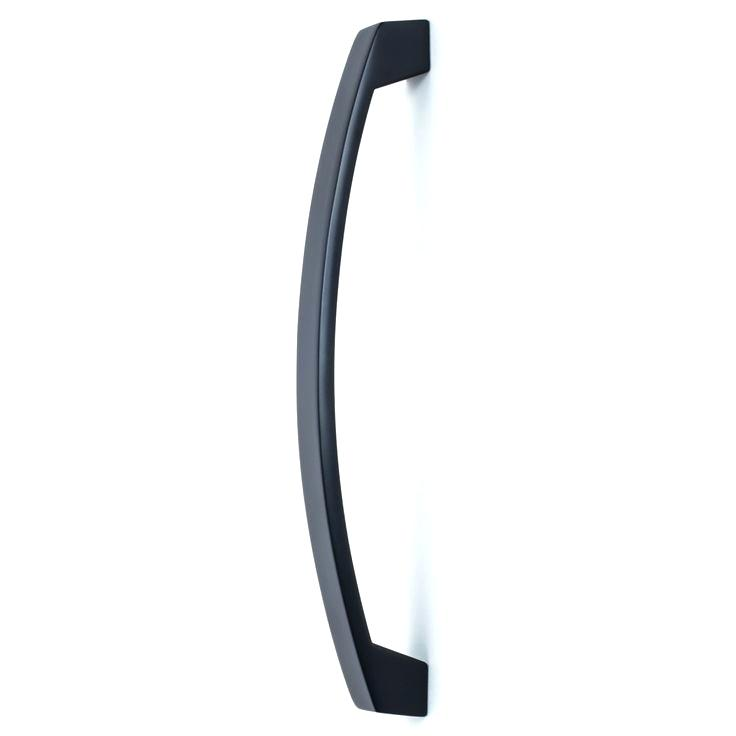handle: (278, 12, 447, 723)
